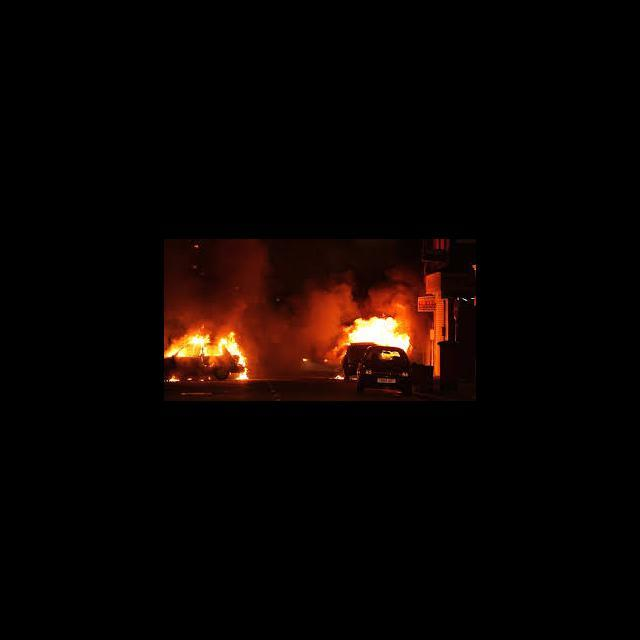Fire: (342, 312, 417, 360), (165, 328, 239, 356), (235, 370, 252, 379), (168, 374, 180, 384), (332, 372, 344, 381), (208, 374, 212, 380), (188, 376, 192, 382), (199, 378, 205, 382)
